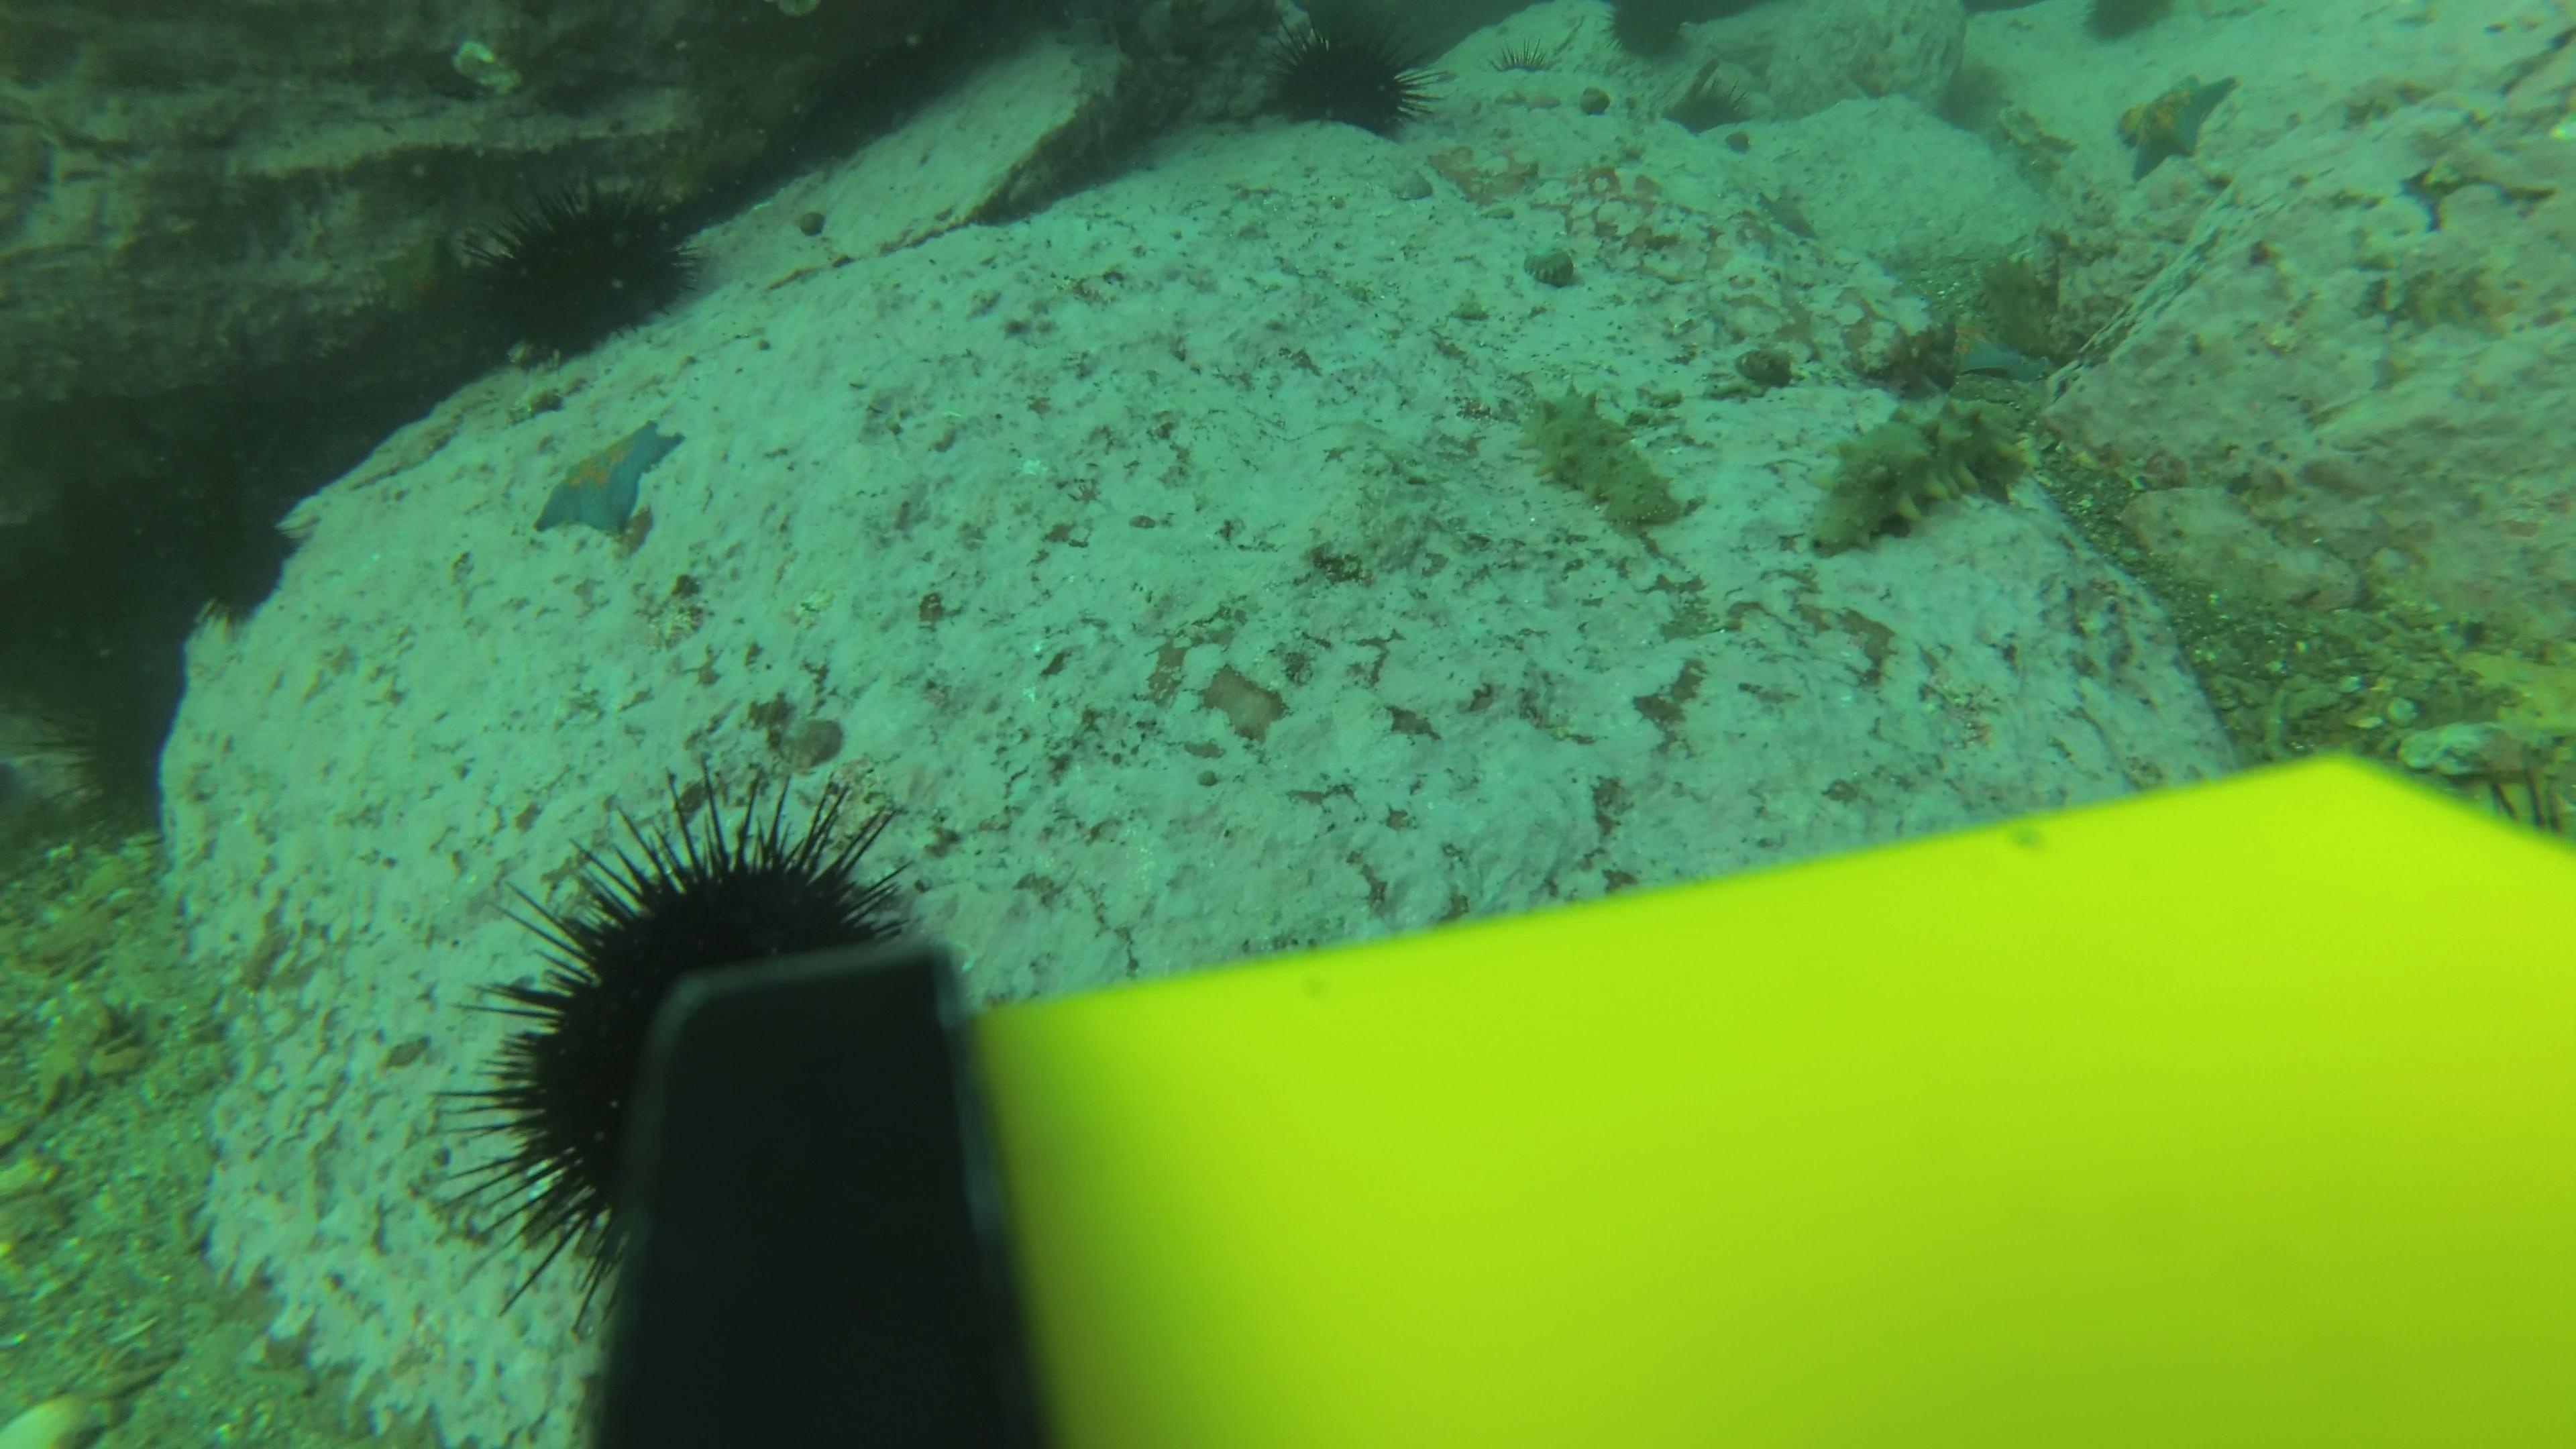echinus: (460, 777, 931, 1261), (467, 173, 708, 361), (41, 632, 200, 840), (1256, 14, 1437, 145), (184, 483, 311, 630), (1596, 0, 1709, 67), (2075, 0, 2176, 50)
holothurian: (1799, 386, 2036, 559), (1513, 379, 1691, 540)
starfish: (525, 414, 688, 545), (2111, 67, 2243, 184), (368, 225, 481, 336), (1941, 308, 2065, 387), (1990, 99, 2079, 175), (1750, 182, 1822, 246)
